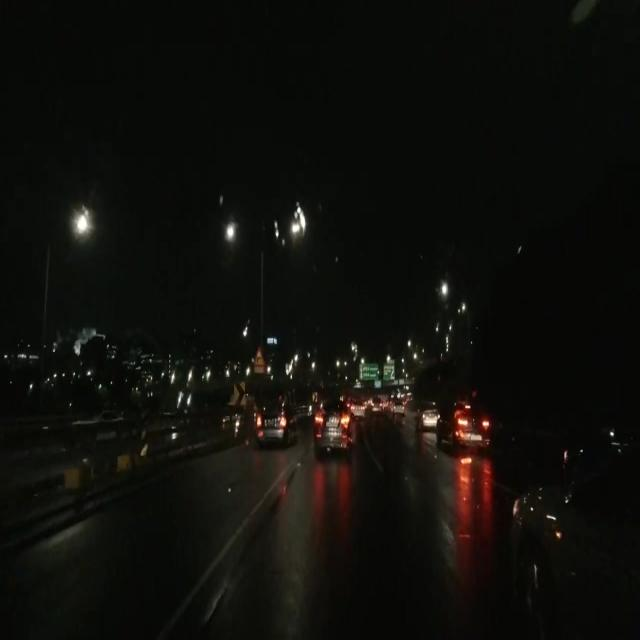Car: (510, 434, 639, 631), (431, 401, 484, 459), (312, 396, 353, 450), (255, 401, 293, 447)
